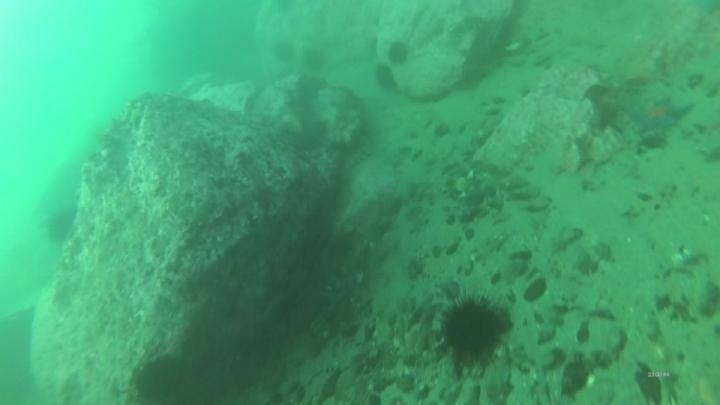echinus: (435, 293, 511, 365), (130, 352, 203, 404), (43, 206, 80, 246), (372, 63, 399, 94), (300, 46, 329, 74), (385, 39, 413, 67), (271, 39, 298, 66)
starfish: (628, 95, 695, 135)
